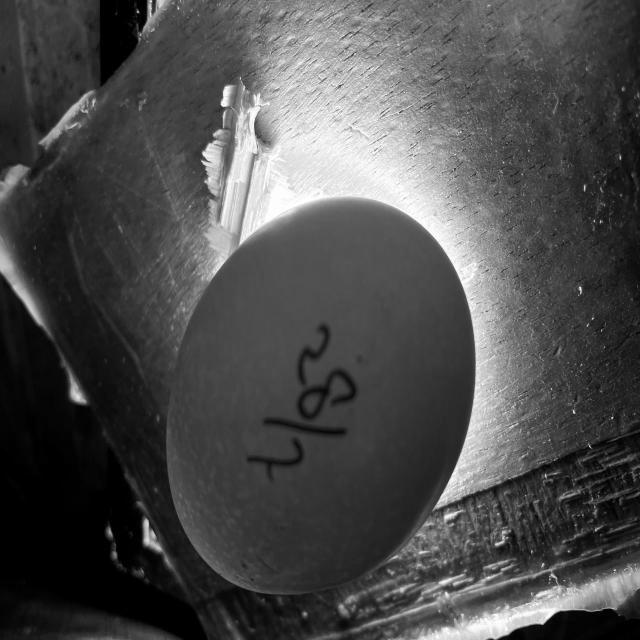telur: (148, 184, 484, 601)
